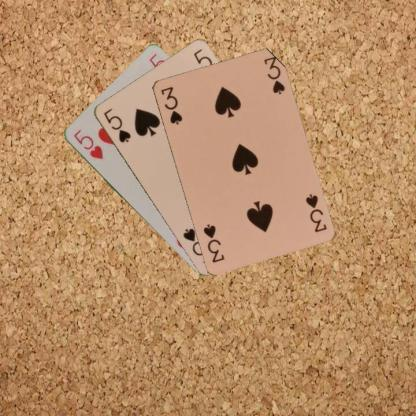3s: (158, 84, 184, 126), (302, 190, 327, 233)
5h: (70, 127, 104, 160)
5s: (100, 105, 132, 145)
